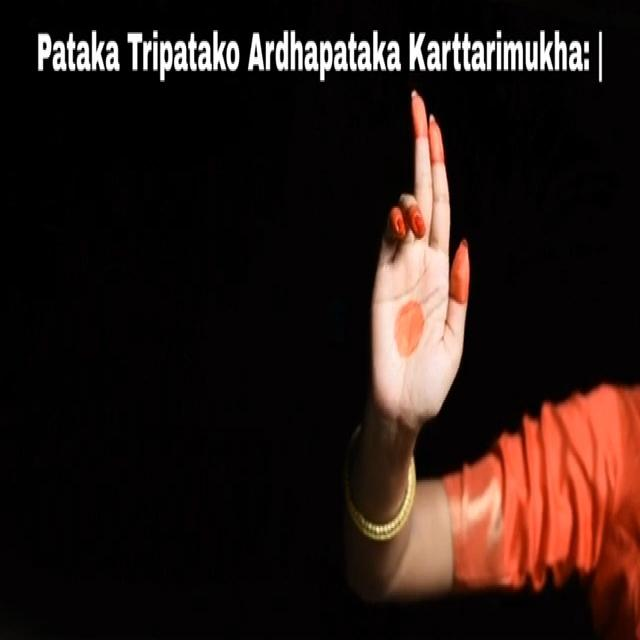Ardhapataka: (354, 77, 482, 451)
bangle: (332, 465, 434, 553)
text: (26, 16, 608, 90)
